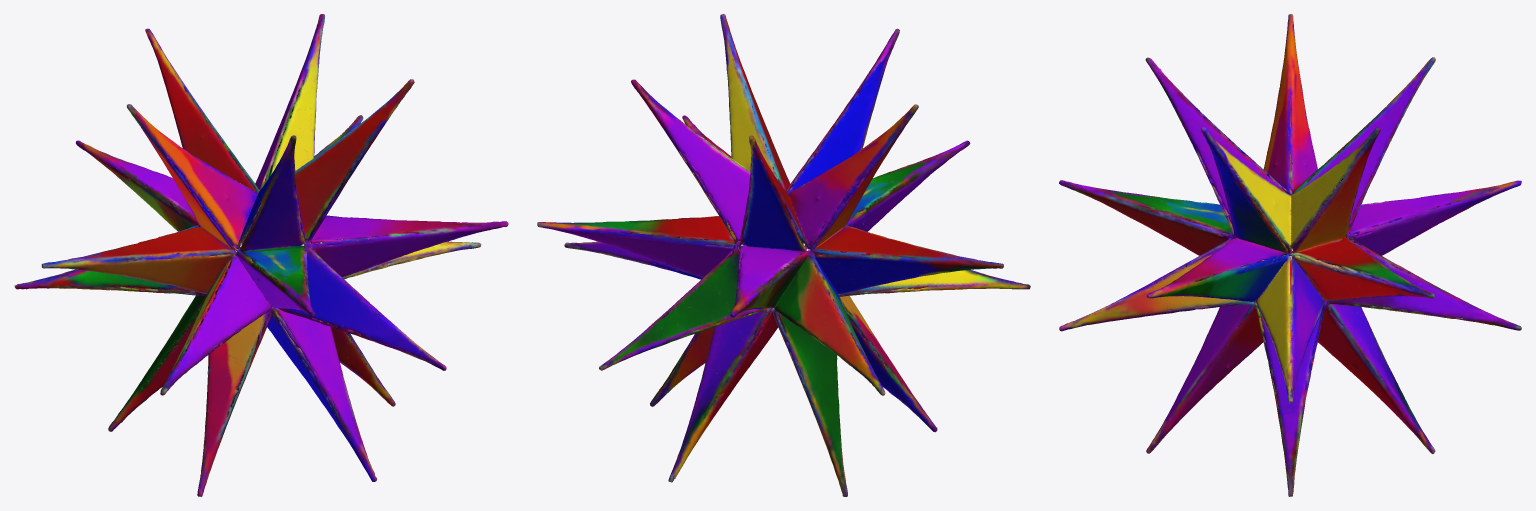
File: 07_icosahedral_symtrellis.glb
3 renders of one model, left to right at view 1: azimuth 30°, elevation 25°; view 2: azimuth 150°, elevation 25°; view 3: azimuth 270°, elevation 25°, orthographic. The views are drawn at different scales.
Visible parts, largest first — view 1: world; view 2: world; view 3: world.
Boxes of the visible parts, x1,y1,x2,y2 form: world: [14, 14, 508, 496]; world: [537, 14, 1030, 496]; world: [1059, 14, 1521, 496].
Size of the model in its own units: 0.9942 by 0.7932 by 0.9304.
1 material, 1 textured.
